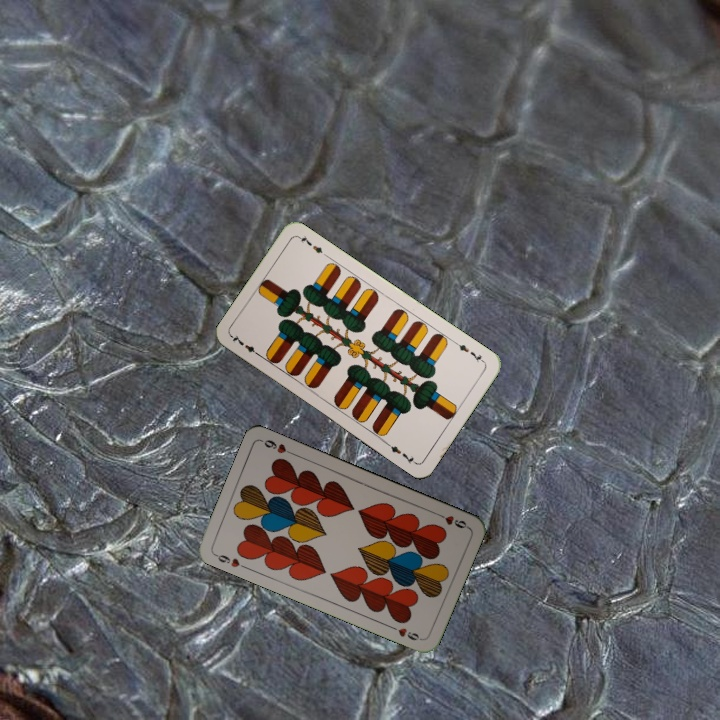E7: (228, 330, 264, 359), (451, 338, 487, 365)
H9: (432, 509, 471, 531), (210, 550, 249, 571)
